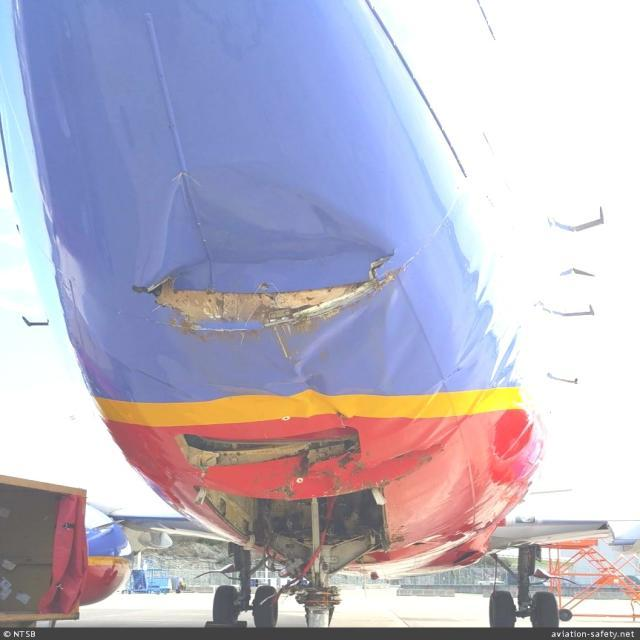crack: (372, 250, 397, 278)
dent: (150, 171, 385, 264), (287, 309, 373, 397)
